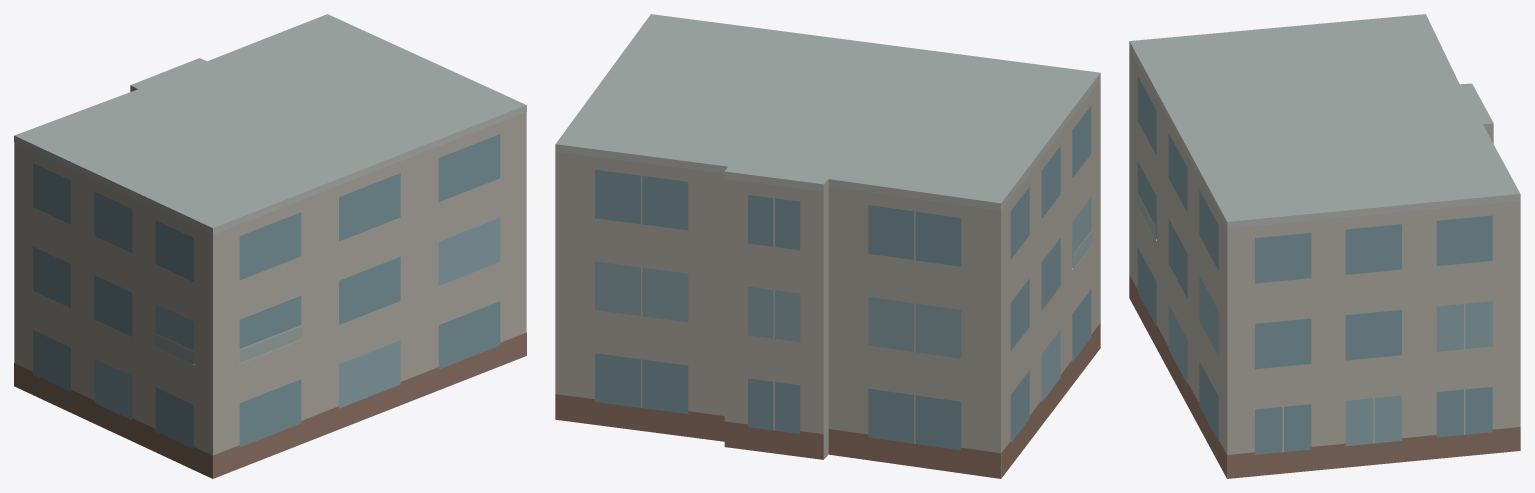
File: survey-upis-32698341.glb
The picture shows the model from 3 angles, left to right: view 1: azimuth 30°, elevation 25°; view 2: azimuth 150°, elevation 25°; view 3: azimuth 270°, elevation 25°; orthographic projection. The views are drawn at different scales.
Visible parts, largest first — view 1: survey-upis-32698341.tmp; view 2: survey-upis-32698341.tmp; view 3: survey-upis-32698341.tmp.
Boxes of the visible parts, x1,y1,x2,y2 form: survey-upis-32698341.tmp: (14, 14, 526, 478); survey-upis-32698341.tmp: (555, 14, 1100, 478); survey-upis-32698341.tmp: (1129, 14, 1520, 478).
Bounding box in the file's own units: 15.88 × 9.15 × 12.63.
